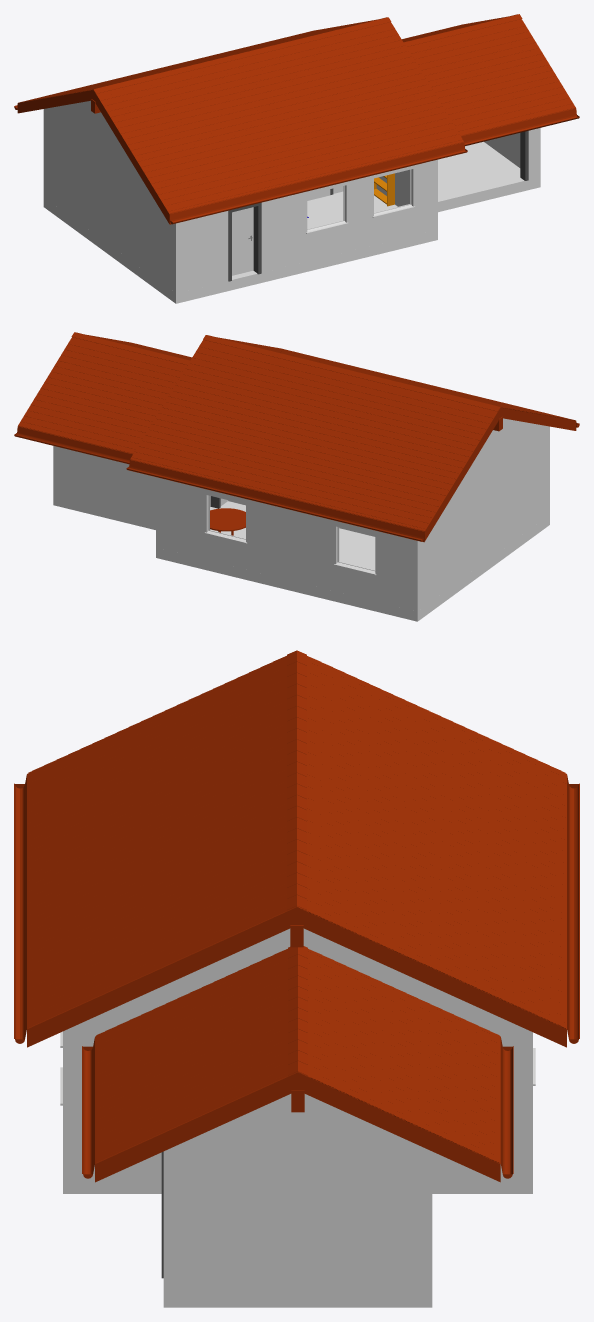
File: sceneobj.glb
3 views of the same model, one above another, from view 1: azimuth 30°, elevation 25°; view 2: azimuth 150°, elevation 25°; view 3: azimuth 270°, elevation 25° (orthographic). The views are drawn at different scales.
Parts seen in each view (by area): view 1: RoofHouse, Walls, RoofGarage, Floor, Doors, WindowRim, Shelve, Doors.001; view 2: RoofHouse, Walls, RoofGarage, Floor, Table, WindowRim; view 3: RoofHouse, RoofGarage, Walls, Floor.
Boxes of the visible parts, x1,y1,x2,y2 form: RoofHouse: (14, 17, 467, 224); Walls: (43, 100, 540, 293); RoofGarage: (402, 14, 579, 145); Floor: (43, 141, 540, 303); Doors: (228, 188, 333, 281); WindowRim: (306, 169, 415, 234); Shelve: (374, 173, 394, 206); Doors.001: (520, 131, 528, 180); RoofHouse: (126, 335, 579, 542); Walls: (53, 418, 549, 611); RoofGarage: (14, 332, 192, 464); Floor: (53, 495, 549, 621); Table: (210, 508, 245, 535); WindowRim: (204, 495, 376, 575); RoofHouse: (14, 650, 579, 1047); RoofGarage: (82, 946, 513, 1182); Walls: (63, 928, 532, 1289); Floor: (63, 1176, 532, 1307).
Size of the model in its own units: 22.08 by 8.42 by 14.27.
